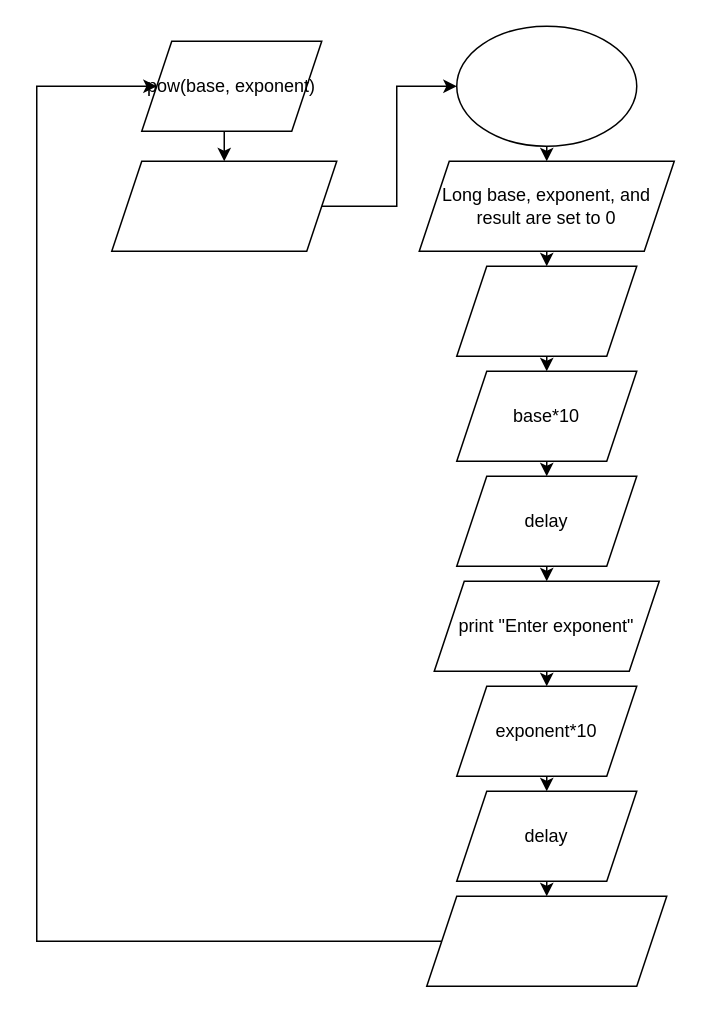
Image size: 701x1013. Some labels were removed from this diagram. The shapes that lost their labels are listed below. From the top down, each one's centre as x and y in pixels, then its label:
point 546,85: Start
point 223,205: print "result"
point 546,310: print "Enter base"
point 546,940: print "base to the power of exponent is"
